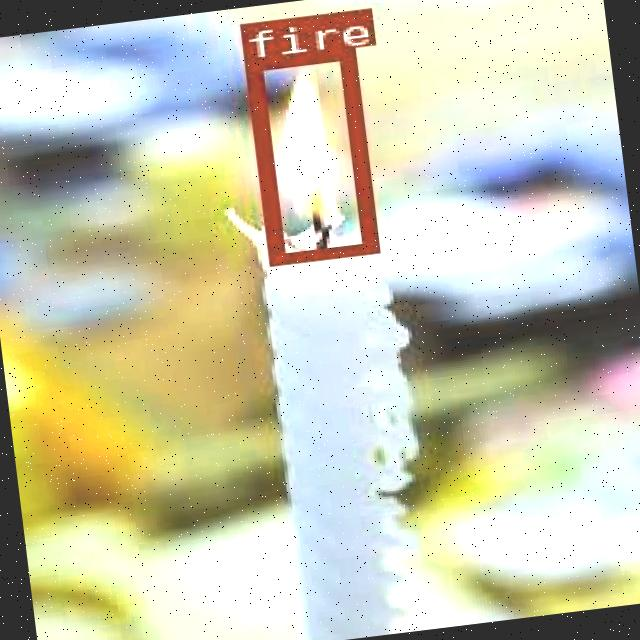fire: (240, 46, 373, 262)
